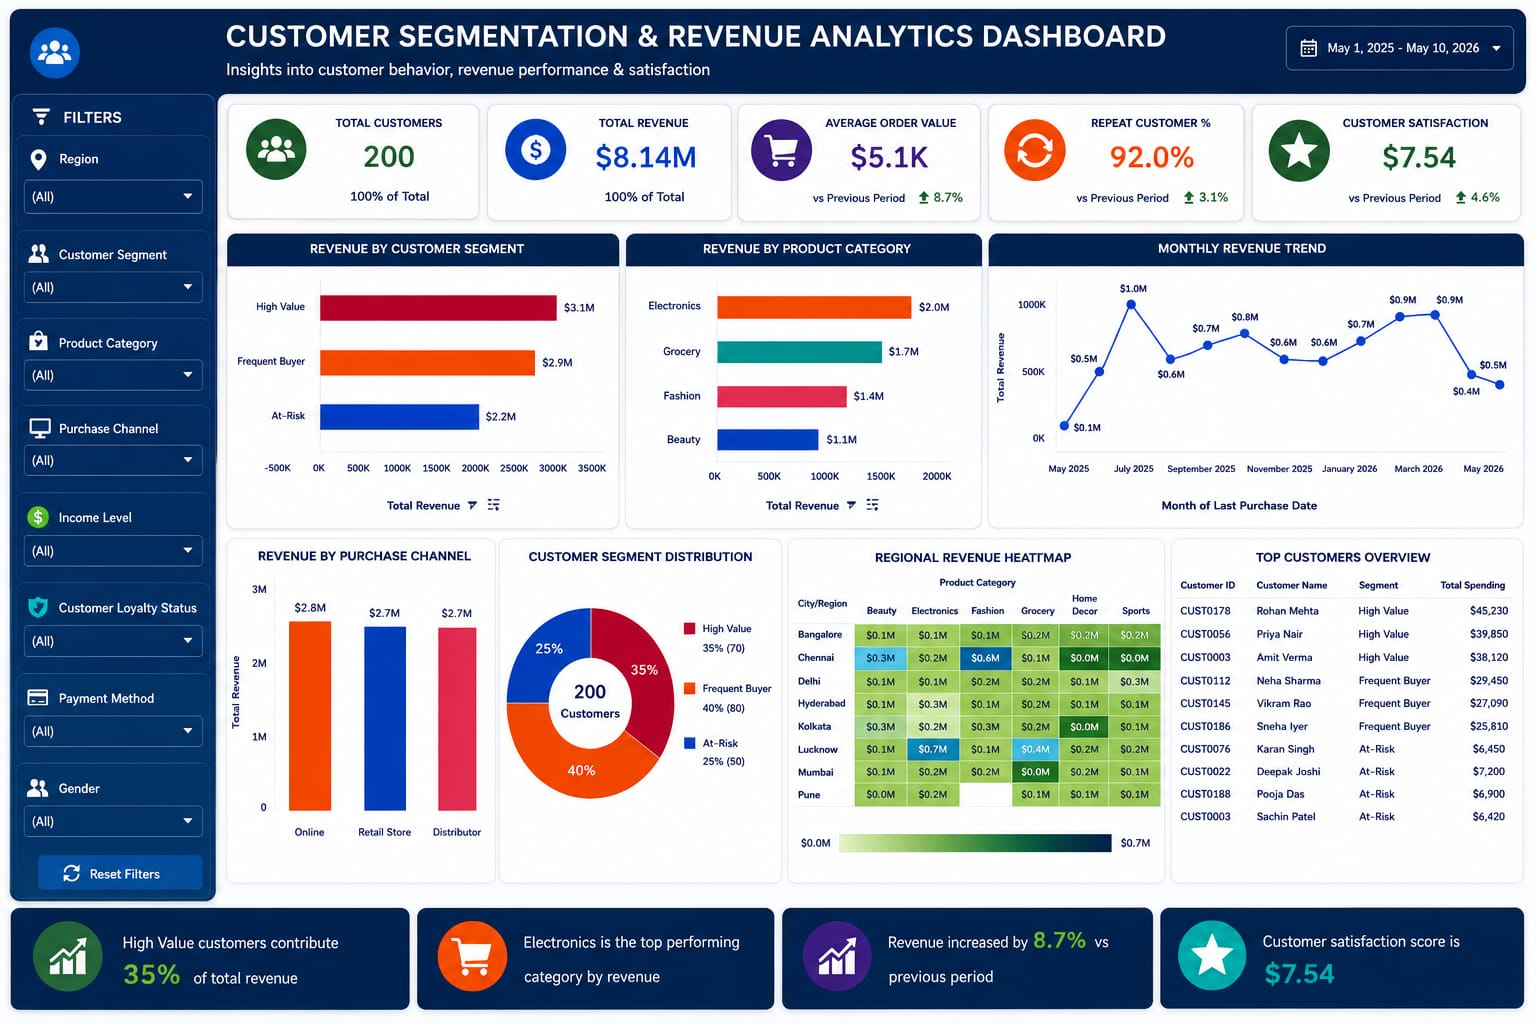

This screenshot's page, from the dashboard's own definition file:
{"tool":"tableau","page":{"name":"Dashboard 2","canvas":[1400,900],"ordinal":1},"visuals":[{"type":"text","box":[10.2,8,1379.6,38]},{"type":"legend","title":"Customer Segment Distribution","param":"[federated.0nyc4f60bqw4we19ngl5z10nxgky].[none:Customer Segment:nk]","box":[1232,8,160,86]},{"type":"text","box":[10.2,46,1379.6,32]},{"type":"worksheet","title":"KPI - Total Revenue","mark":"Automatic","box":[10,78,345,169]},{"type":"worksheet","title":"KPI - Total Customers","mark":"Automatic","box":[355,78,345,169]},{"type":"worksheet","title":"KPI - Average Order Value","mark":"Automatic","box":[700,78,345,169]},{"type":"worksheet","title":"KPI - Satisfaction","mark":"Automatic","box":[1045,78,345,169]},{"type":"legend","title":"Regional Revenue Heatmap","param":"[federated.0nyc4f60bqw4we19ngl5z10nxgky].[sum:Total Spending:qk]","box":[1232,94,160,65]},{"type":"worksheet","title":"Revenue by Segment","mark":"Automatic","rows":["Customer Segment"],"cols":["Total Spending"],"box":[10,247,690,229]},{"type":"worksheet","title":"Revenue by Product Category","mark":"Bar","rows":["Product Category"],"cols":["Total Spending"],"box":[700,247,690,229]},{"type":"worksheet","title":"Monthly Revenue Trend","mark":"Line","rows":["Total Spending"],"cols":["Last Purchase Date"],"box":[10.2,476,1379.6,159]},{"type":"worksheet","title":"Revenue by Purchase Channel","mark":"Bar","rows":["Total Spending"],"cols":["Purchase Channel"],"box":[10,635,460,257]},{"type":"worksheet","title":"Customer Segment Distribution","mark":"Pie","rows":["Calculation_0685276457951234","Calculation_0685276457951234"],"box":[470,635,460,257]},{"type":"worksheet","title":"Regional Revenue Heatmap","mark":"Square","rows":["City/Region"],"cols":["Product Category"],"box":[930,635,460,257]}]}

Visuals, with their boxes on the page's 1400x900 design canvas (x1, y1, x2, y2). These are canvas units, not pixel positions in the 1536x1024 screenshot, which may show the page scaled, cropped or inside an application window:
text: [10, 8, 1390, 46]
"Customer Segment Distribution" legend: [1232, 8, 1392, 94]
text: [10, 46, 1390, 78]
"KPI - Total Revenue" worksheet: [10, 78, 355, 247]
"KPI - Total Customers" worksheet: [355, 78, 700, 247]
"KPI - Average Order Value" worksheet: [700, 78, 1045, 247]
"KPI - Satisfaction" worksheet: [1045, 78, 1390, 247]
"Regional Revenue Heatmap" legend: [1232, 94, 1392, 159]
"Revenue by Segment" worksheet: [10, 247, 700, 476]
"Revenue by Product Category" worksheet (Bar marks): [700, 247, 1390, 476]
"Monthly Revenue Trend" worksheet (Line marks): [10, 476, 1390, 635]
"Revenue by Purchase Channel" worksheet (Bar marks): [10, 635, 470, 892]
"Customer Segment Distribution" worksheet (Pie marks): [470, 635, 930, 892]
"Regional Revenue Heatmap" worksheet (Square marks): [930, 635, 1390, 892]
